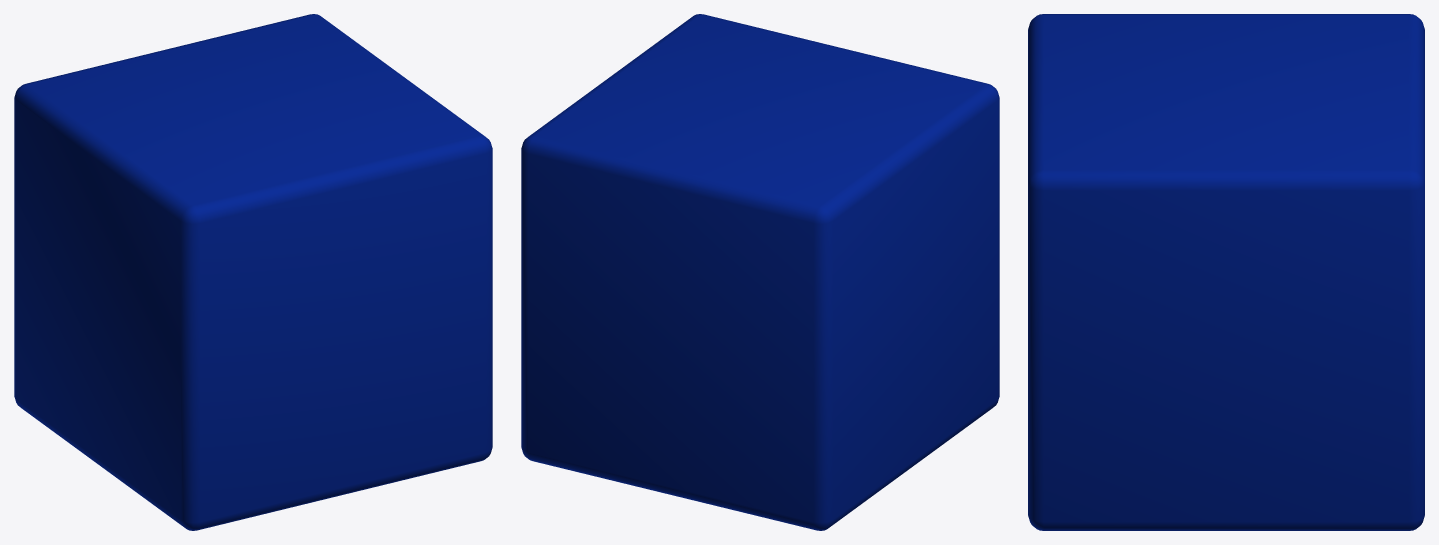
Rendered from SM_ChamferCube.FBX.
The picture shows the model from 3 angles, left to right: view 1: azimuth 30°, elevation 25°; view 2: azimuth 150°, elevation 25°; view 3: azimuth 270°, elevation 25°; orthographic projection. The views are drawn at different scales.
Visible parts, largest first — view 1: SM_ChamferCube; view 2: SM_ChamferCube; view 3: SM_ChamferCube.
Part boxes in pixels (left/top/right/bottom): SM_ChamferCube: left=14, top=14, right=492, bottom=530; SM_ChamferCube: left=521, top=14, right=999, bottom=530; SM_ChamferCube: left=1028, top=14, right=1424, bottom=530.
Size of what is drawn, in the model's own units: 100 by 100 by 100.
